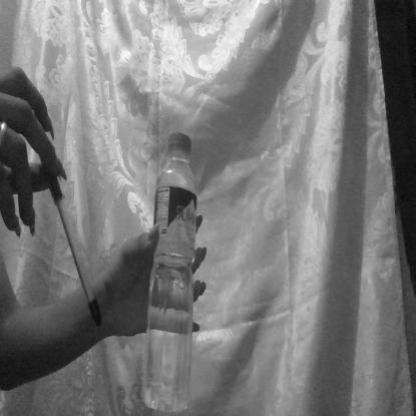Plastic Bottle: (123, 107, 218, 416)
